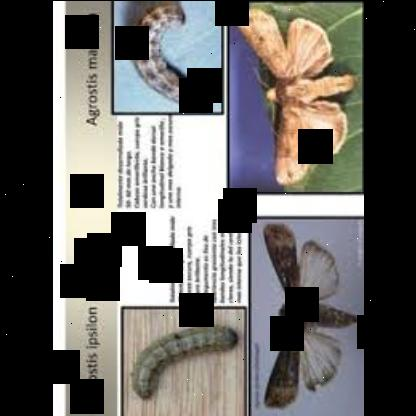oruga: (121, 4, 215, 113), (121, 318, 239, 400)
